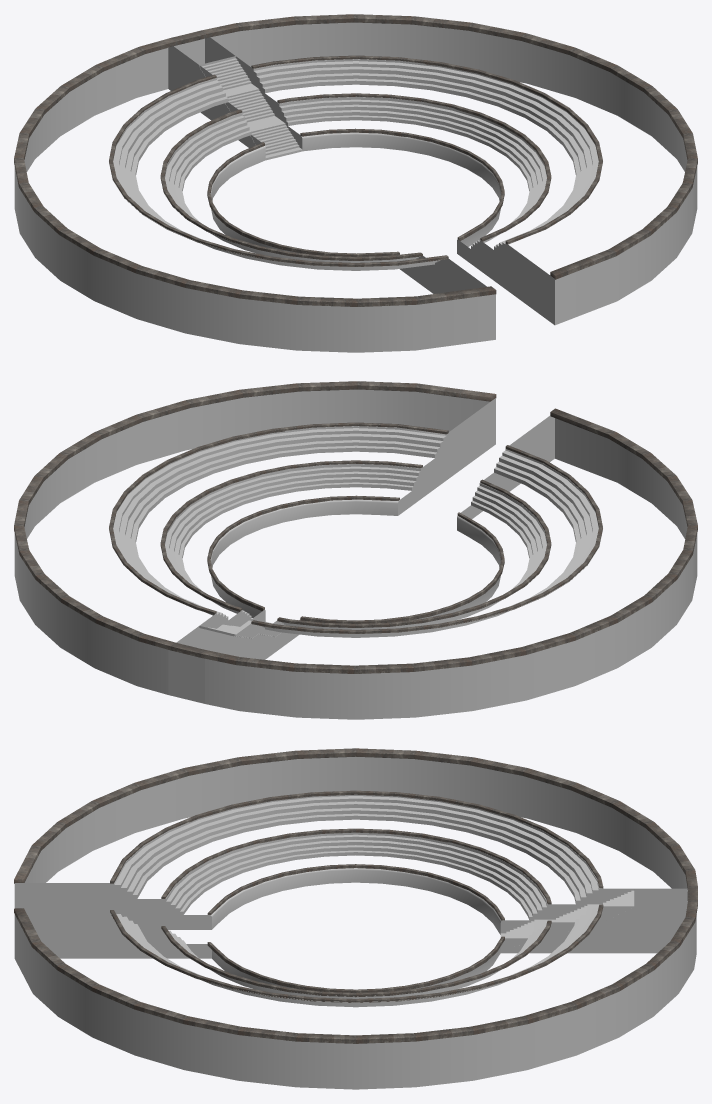
File: P_BossCemetery_02_02.fbx
3 views of the same model, one above another, from view 1: azimuth 30°, elevation 25°; view 2: azimuth 150°, elevation 25°; view 3: azimuth 270°, elevation 25° (orthographic).
Parts seen in each view (by area): view 1: P_BossCemetery_02_02; view 2: P_BossCemetery_02_02; view 3: P_BossCemetery_02_02.
Boxes of the visible parts, left/top/right/bottom form: P_BossCemetery_02_02: left=14, top=14, right=697, bottom=352; P_BossCemetery_02_02: left=14, top=381, right=697, bottom=719; P_BossCemetery_02_02: left=14, top=748, right=697, bottom=1089.
Size of the model in its own units: 8091 by 655 by 8027.
